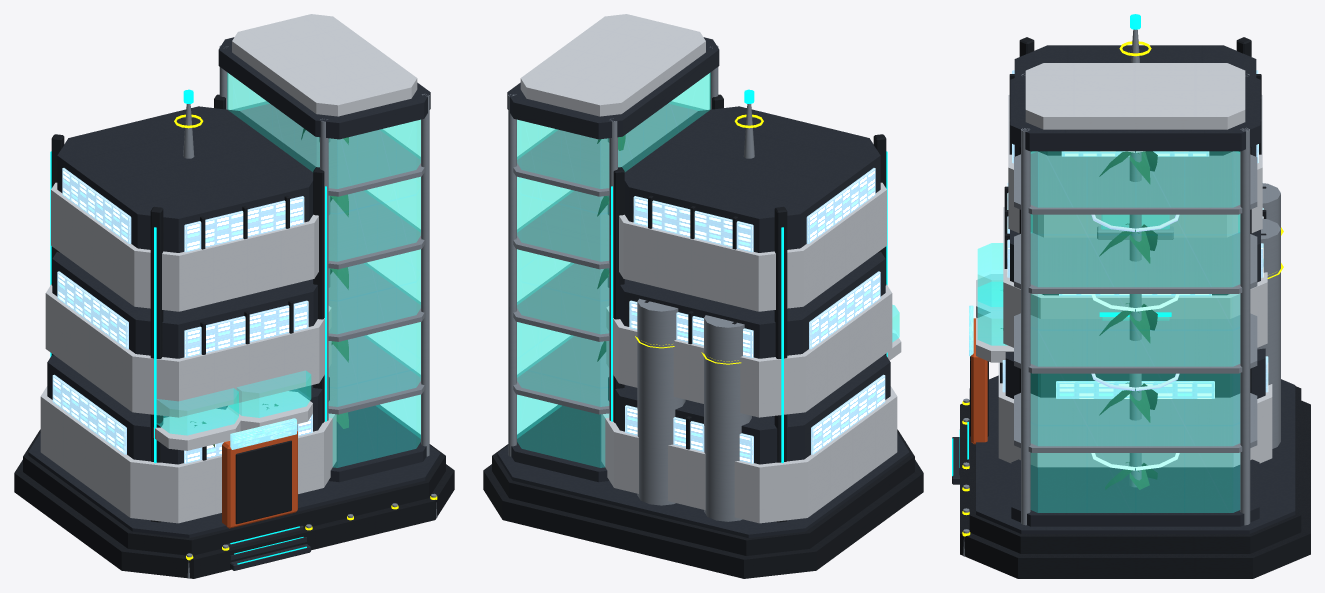
Rendered from bldg_03_r1_02.glb.
The picture shows the model from 3 angles, left to right: view 1: azimuth 30°, elevation 25°; view 2: azimuth 150°, elevation 25°; view 3: azimuth 270°, elevation 25°; orthographic projection. The views are drawn at different scales.
Visible parts, largest first — view 1: Bldg03_C02_aero_white, Bldg03_C02_carbon_slate, Bldg03_C02_glass_emerald, Bldg03_C02_gunmetal, Bldg03_C02_steel_machined, Bldg03_C02_window_lit, Bldg03_C02_accent_orange, Bldg03_C02_led_cyan, Bldg03_C02_marquee, Bldg03_C02_foliage; view 2: Bldg03_C02_aero_white, Bldg03_C02_carbon_slate, Bldg03_C02_steel_machined, Bldg03_C02_glass_emerald, Bldg03_C02_gunmetal, Bldg03_C02_window_lit, Bldg03_C02_led_cyan; view 3: Bldg03_C02_glass_emerald, Bldg03_C02_steel_machined, Bldg03_C02_carbon_slate, Bldg03_C02_aero_white, Bldg03_C02_gunmetal, Bldg03_C02_window_lit, Bldg03_C02_foliage, Bldg03_C02_accent_orange, Bldg03_C02_led_ice, Bldg03_C02_led_uv, Bldg03_C02_led_cyan.
Part boxes in pixels (x1,y1,x2,y2): Bldg03_C02_aero_white: (40, 14, 417, 523); Bldg03_C02_carbon_slate: (28, 37, 440, 570); Bldg03_C02_glass_emerald: (156, 72, 420, 467); Bldg03_C02_gunmetal: (14, 94, 454, 578); Bldg03_C02_steel_machined: (183, 45, 437, 578); Bldg03_C02_window_lit: (52, 168, 312, 463); Bldg03_C02_accent_orange: (222, 431, 297, 528); Bldg03_C02_led_cyan: (50, 89, 326, 564); Bldg03_C02_marquee: (230, 418, 296, 449); Bldg03_C02_foliage: (190, 128, 348, 447); Bldg03_C02_aero_white: (520, 14, 901, 523); Bldg03_C02_carbon_slate: (497, 37, 909, 537); Bldg03_C02_steel_machined: (508, 45, 905, 521); Bldg03_C02_glass_emerald: (517, 72, 899, 467); Bldg03_C02_gunmetal: (483, 94, 923, 578); Bldg03_C02_window_lit: (625, 168, 885, 463); Bldg03_C02_led_cyan: (611, 89, 887, 463); Bldg03_C02_glass_emerald: (977, 151, 1240, 512); Bldg03_C02_steel_machined: (963, 29, 1280, 556); Bldg03_C02_carbon_slate: (952, 45, 1295, 533); Bldg03_C02_aero_white: (976, 63, 1272, 467); Bldg03_C02_gunmetal: (960, 37, 1310, 578); Bldg03_C02_window_lit: (1002, 70, 1268, 398); Bldg03_C02_foliage: (1001, 151, 1157, 489); Bldg03_C02_accent_orange: (971, 318, 987, 444); Bldg03_C02_led_ice: (1091, 151, 1179, 470); Bldg03_C02_led_uv: (1091, 214, 1179, 390); Bldg03_C02_led_cyan: (952, 14, 1171, 476).
Bounding box in the file's own units: 12 × 14.12 × 10.23.
Materials: 14 (14 with a texture image).
